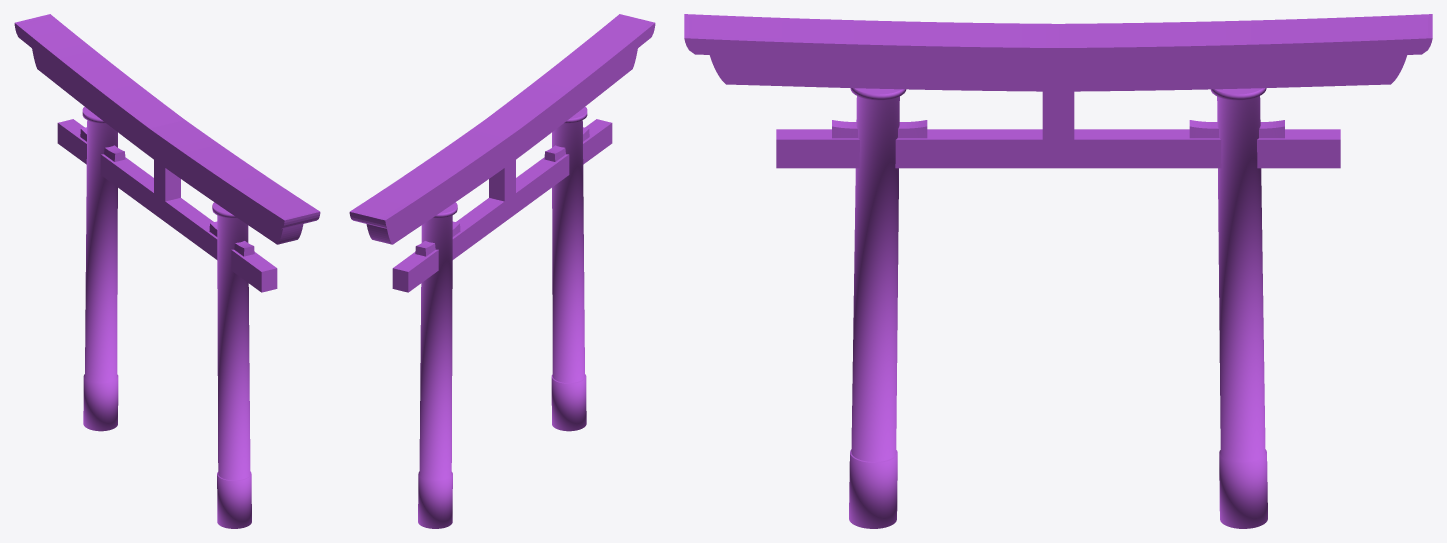
File: torii.fbx
3 views of the same model, side by side, from view 1: azimuth 30°, elevation 25°; view 2: azimuth 150°, elevation 25°; view 3: azimuth 270°, elevation 25° (orthographic). The views are drawn at different scales.
Visible parts, largest first — view 1: Cylinder; view 2: Cylinder; view 3: Cylinder.
Boxes of the visible parts, <box> form: Cylinder: <box>14,14,320,528</box>; Cylinder: <box>349,14,655,528</box>; Cylinder: <box>684,14,1432,528</box>.
Size of the model in its own units: 56.24 by 534 by 735.
